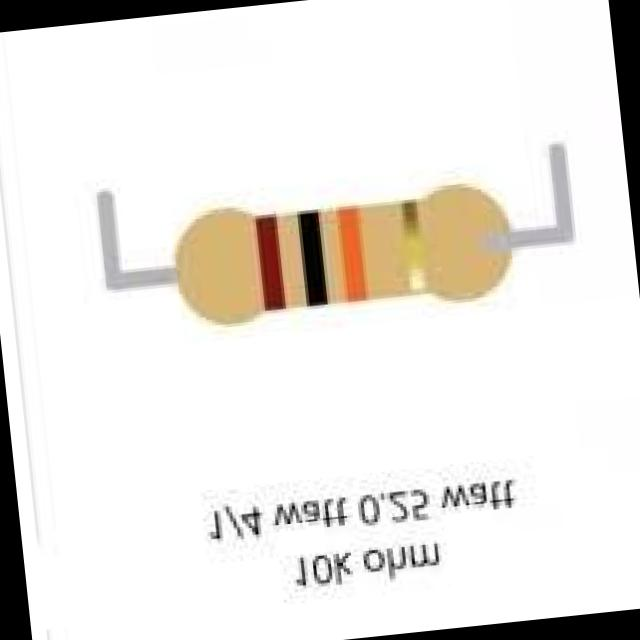Resistor: (177, 187, 509, 326)
black: (298, 204, 327, 307)
brown: (257, 208, 289, 309)
gold: (402, 189, 428, 297)
orange: (335, 202, 369, 303)
